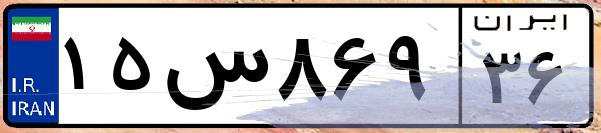1: (57, 26, 110, 100)
3: (475, 38, 525, 113)
5: (110, 28, 158, 98)
6: (330, 28, 385, 110), (525, 38, 570, 115)
8: (270, 28, 330, 110)
9: (385, 28, 445, 110)
س: (158, 20, 270, 120)
